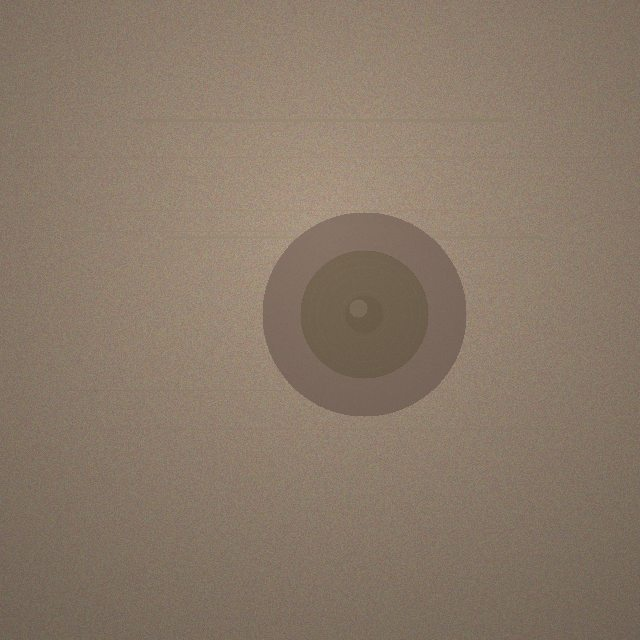good: (262, 212, 466, 416)
